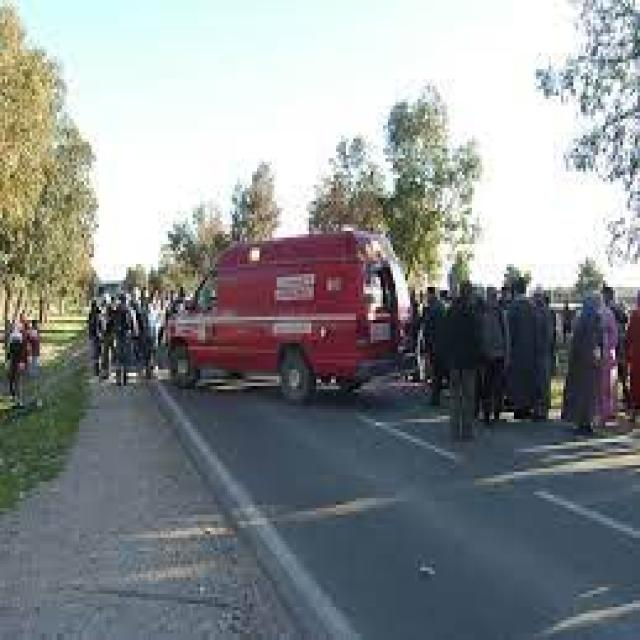ambulance: (158, 232, 412, 403)
